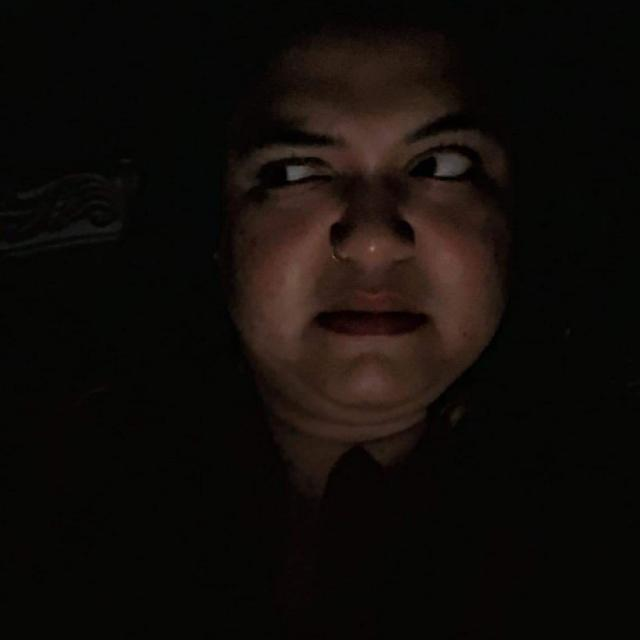Disgust: (126, 49, 575, 525)
